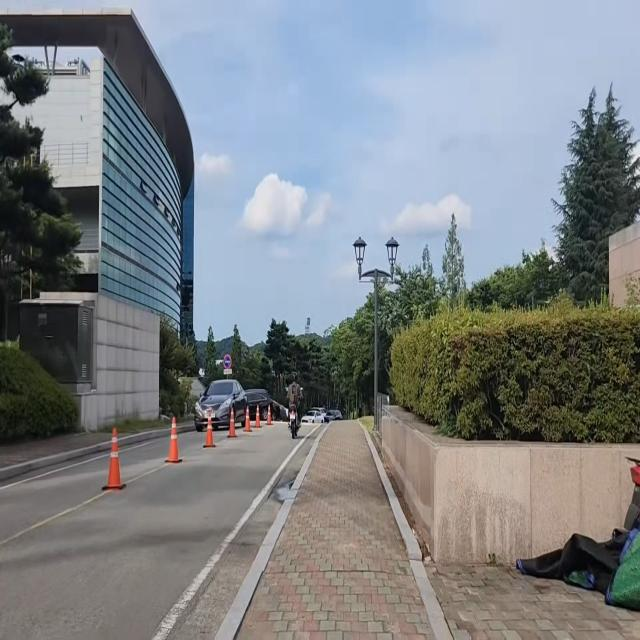obstacle: (512, 439, 640, 618), (189, 375, 251, 437), (99, 418, 130, 502), (280, 366, 309, 446)
road: (0, 425, 312, 640)
sidewalk: (216, 419, 455, 640), (0, 424, 136, 477)
